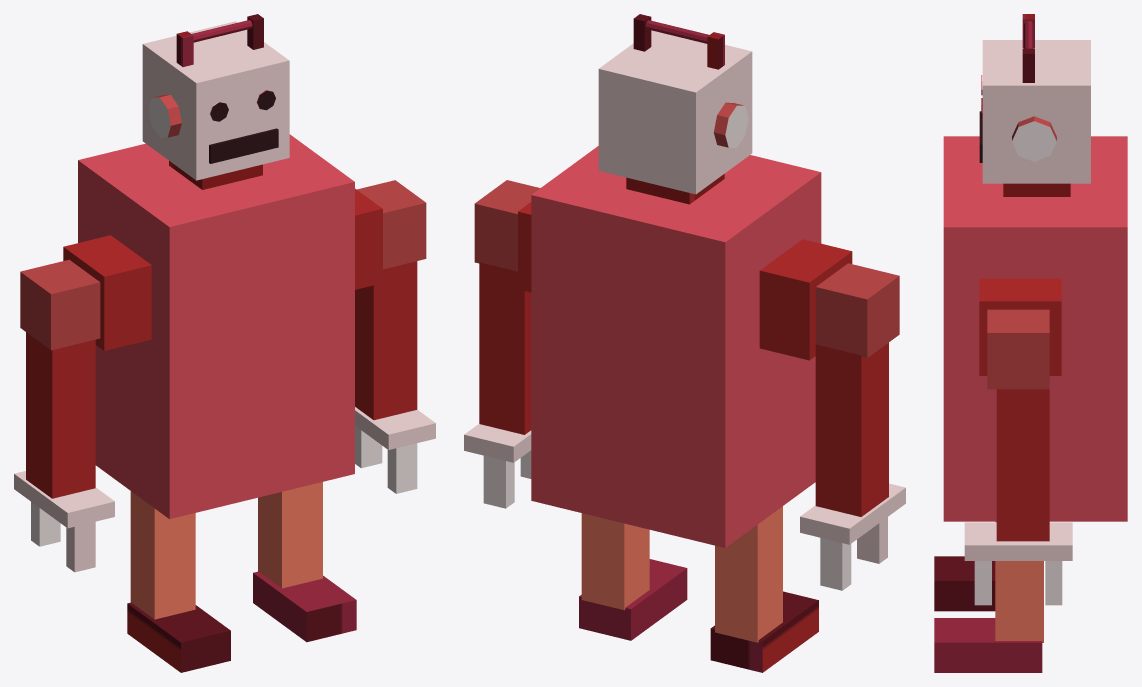
File: M_Robot 1.fbx
The picture shows the model from 3 angles, left to right: view 1: azimuth 30°, elevation 25°; view 2: azimuth 150°, elevation 25°; view 3: azimuth 270°, elevation 25°; orthographic projection. The views are drawn at different scales.
Parts seen in each view (by area): view 1: Robot1; view 2: Robot1; view 3: Robot1.
Part boxes in pixels (box(x1,y1,x2,y2)): Robot1: box(14, 14, 435, 672); Robot1: box(464, 14, 905, 672); Robot1: box(934, 14, 1127, 672).
Bounding box in the file's own units: 302 × 455 × 134.
